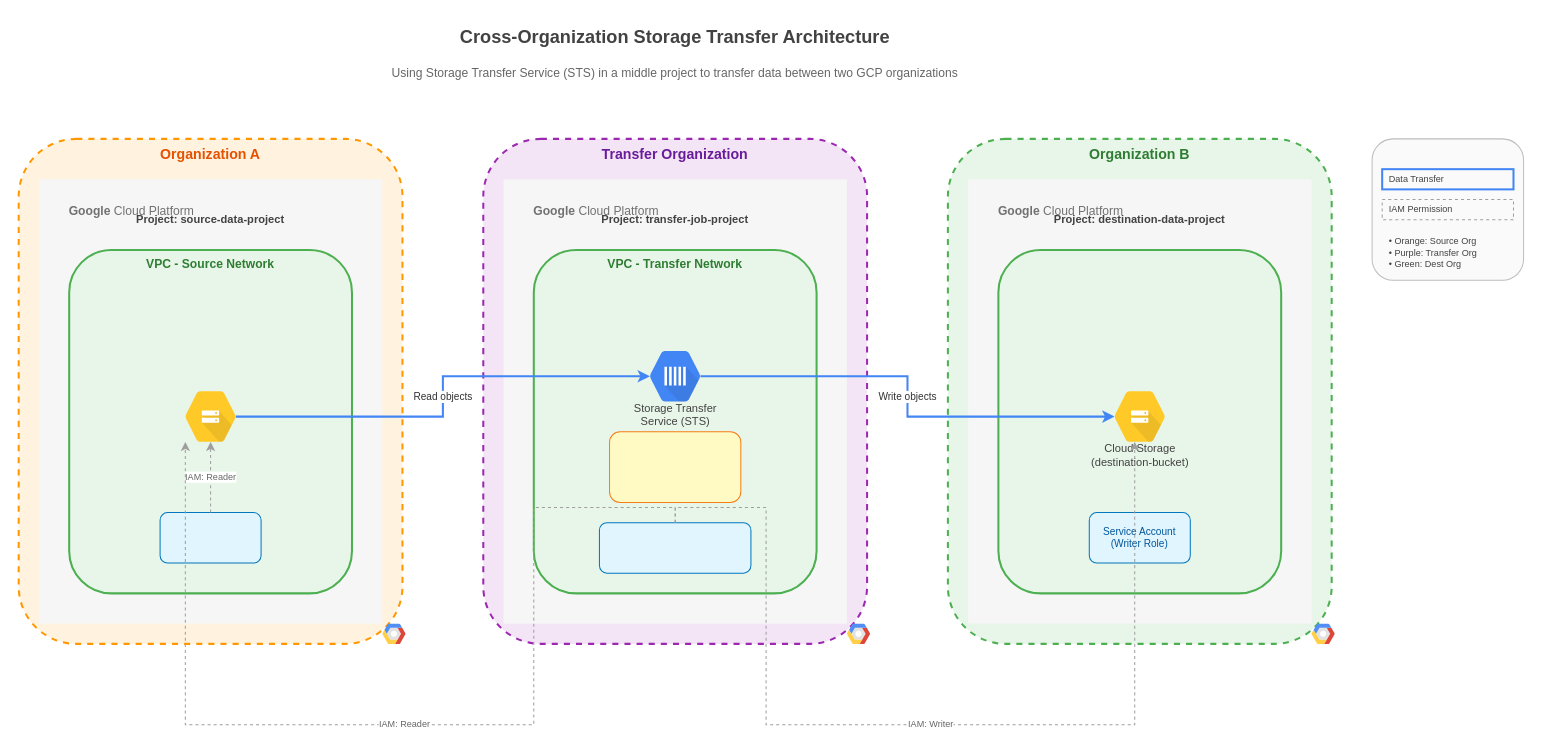
Image size: 1541x750. Some labels were removed from this diagram. Here are the shapes that lost their labels. From the top down, the box of each, then its label:
(1371, 138, 1524, 280): Data Flow Legend
(185, 391, 235, 441): Cloud Storage (source-bucket)
(997, 248, 1282, 594): VPC - Destination Network
(609, 431, 741, 502): Transfer Job • Schedule: Daily • Incremental sync • Overwrite policy
(159, 512, 261, 563): Service Account (Reader Role)
(598, 522, 751, 573): Service Account (Reader + Writer Roles)
